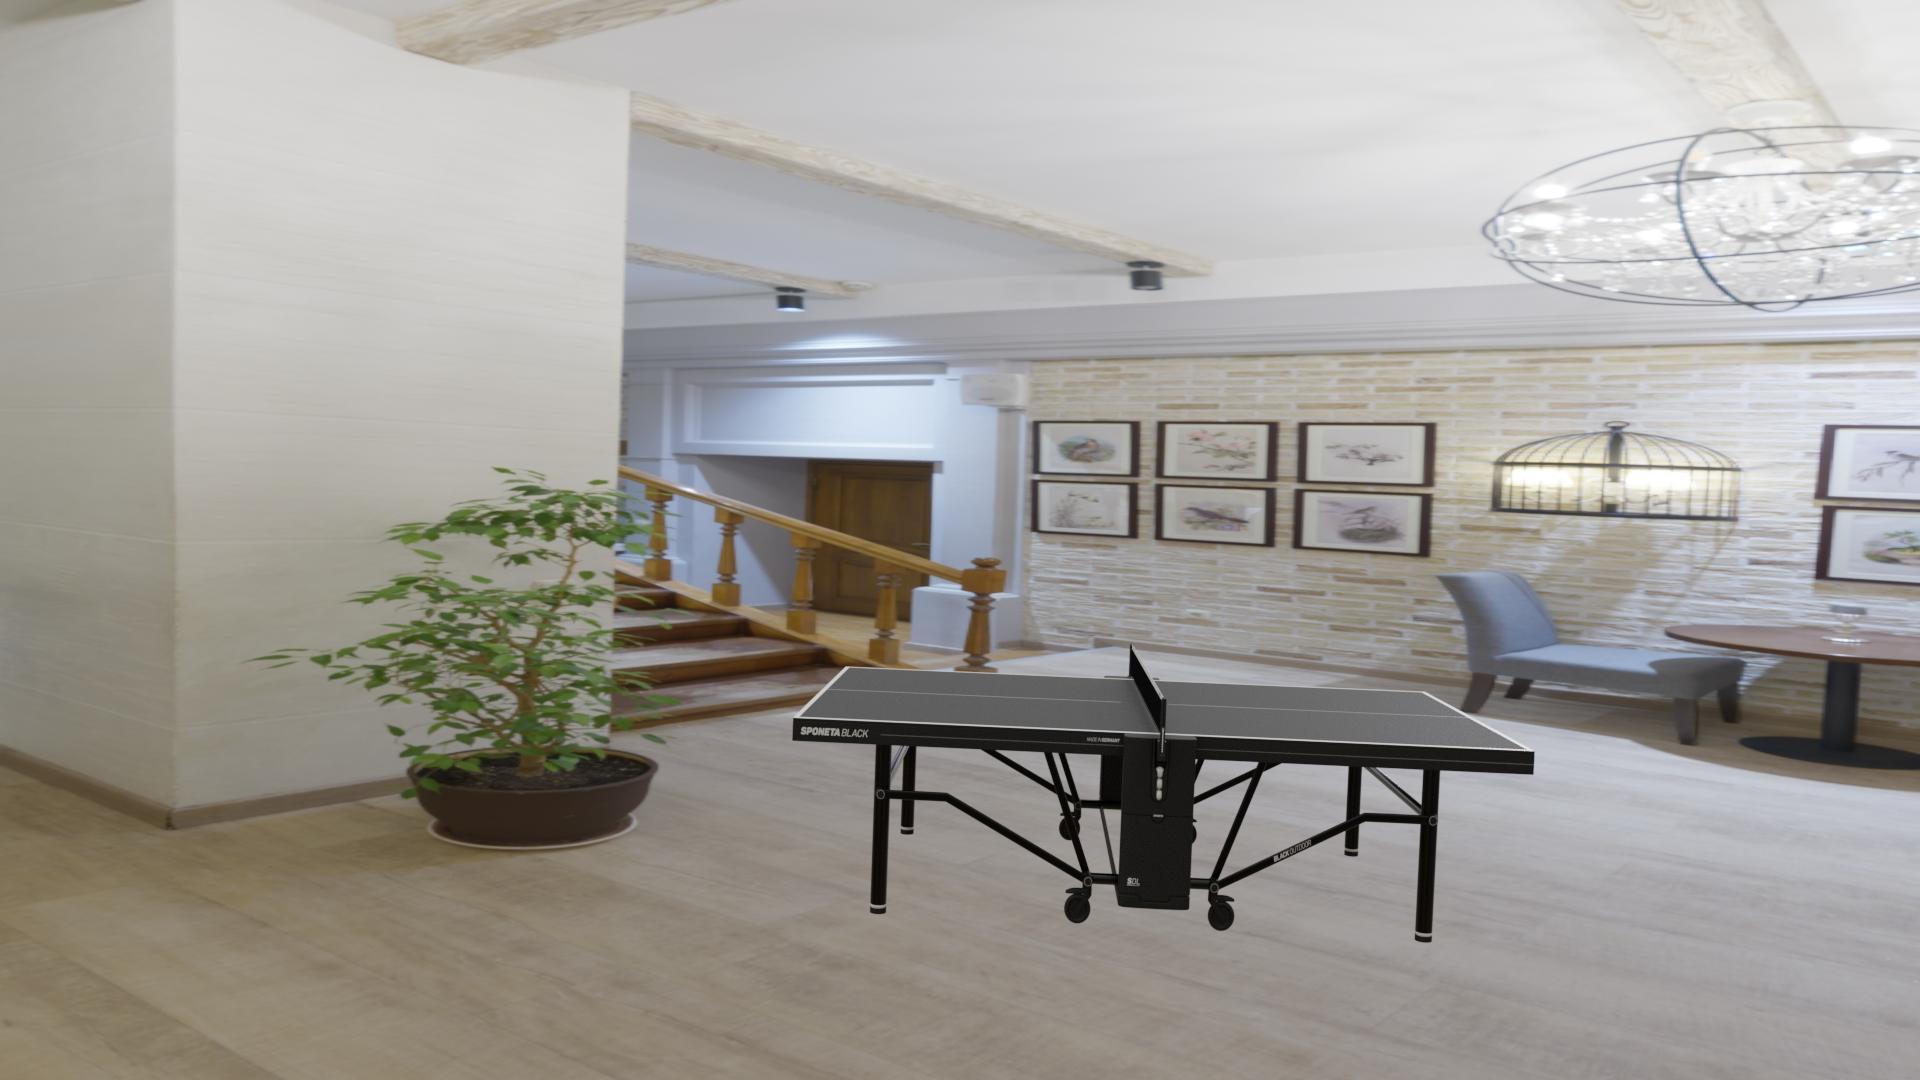table: (799, 667, 1527, 750)
